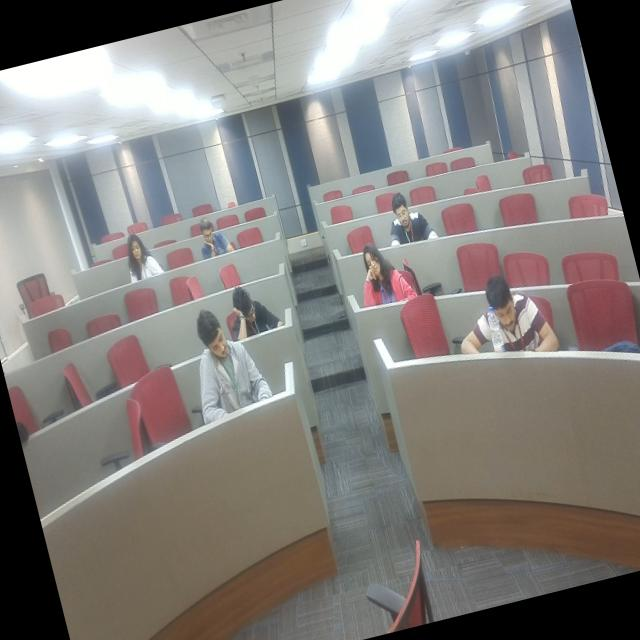non-cheating: (176, 294, 273, 422), (344, 239, 421, 327)
